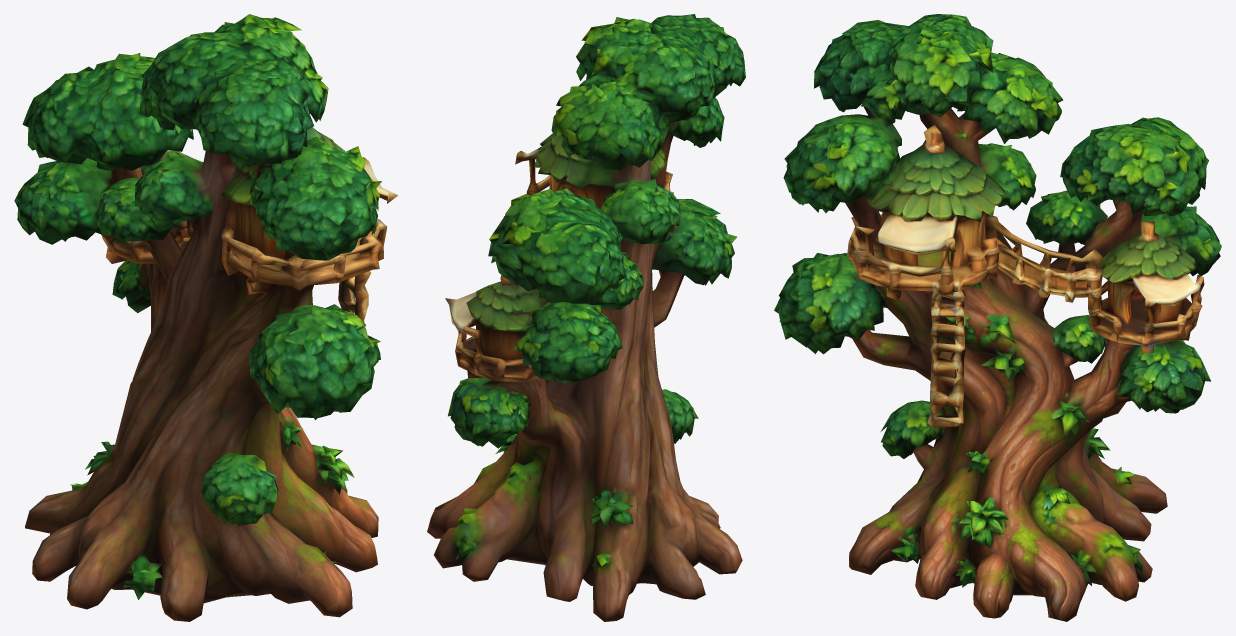
Rendered from W_GiantTree_raw.glb.
The picture shows the model from 3 angles, left to right: view 1: azimuth 30°, elevation 25°; view 2: azimuth 150°, elevation 25°; view 3: azimuth 270°, elevation 25°; orthographic projection. The views are drawn at different scales.
Visible parts, largest first — view 1: tripo_node_3f1bf193-7e3d-4748-8ea0-93eaad148fbc; view 2: tripo_node_3f1bf193-7e3d-4748-8ea0-93eaad148fbc; view 3: tripo_node_3f1bf193-7e3d-4748-8ea0-93eaad148fbc.
Boxes of the visible parts, x1,y1,x2,y2 form: tripo_node_3f1bf193-7e3d-4748-8ea0-93eaad148fbc: [14, 14, 397, 621]; tripo_node_3f1bf193-7e3d-4748-8ea0-93eaad148fbc: [427, 14, 745, 621]; tripo_node_3f1bf193-7e3d-4748-8ea0-93eaad148fbc: [774, 14, 1221, 621].
Size of the model in its own units: 0.5784 by 1 by 0.7771.
1 material, 1 textured.
